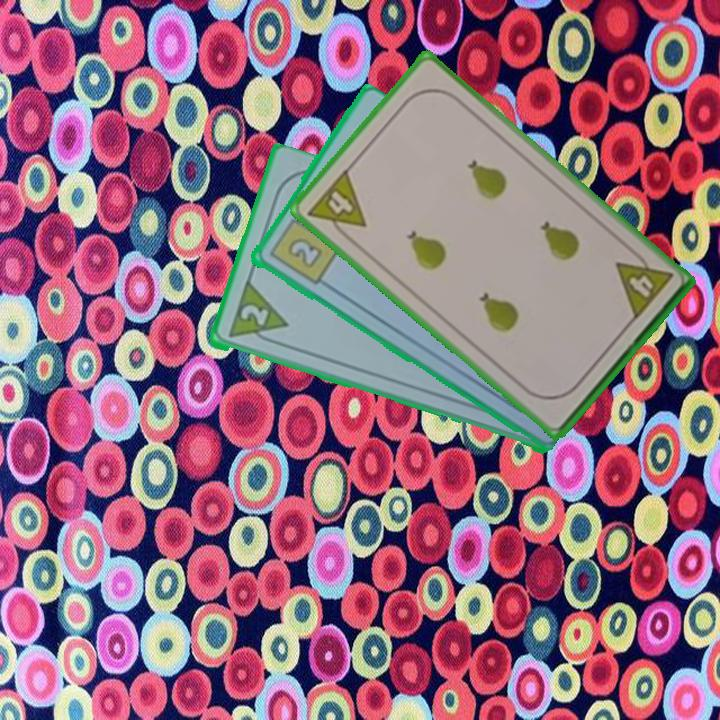2b: (265, 208, 341, 288)
2p: (223, 280, 290, 350)
4p: (303, 165, 369, 246), (611, 245, 676, 323)
